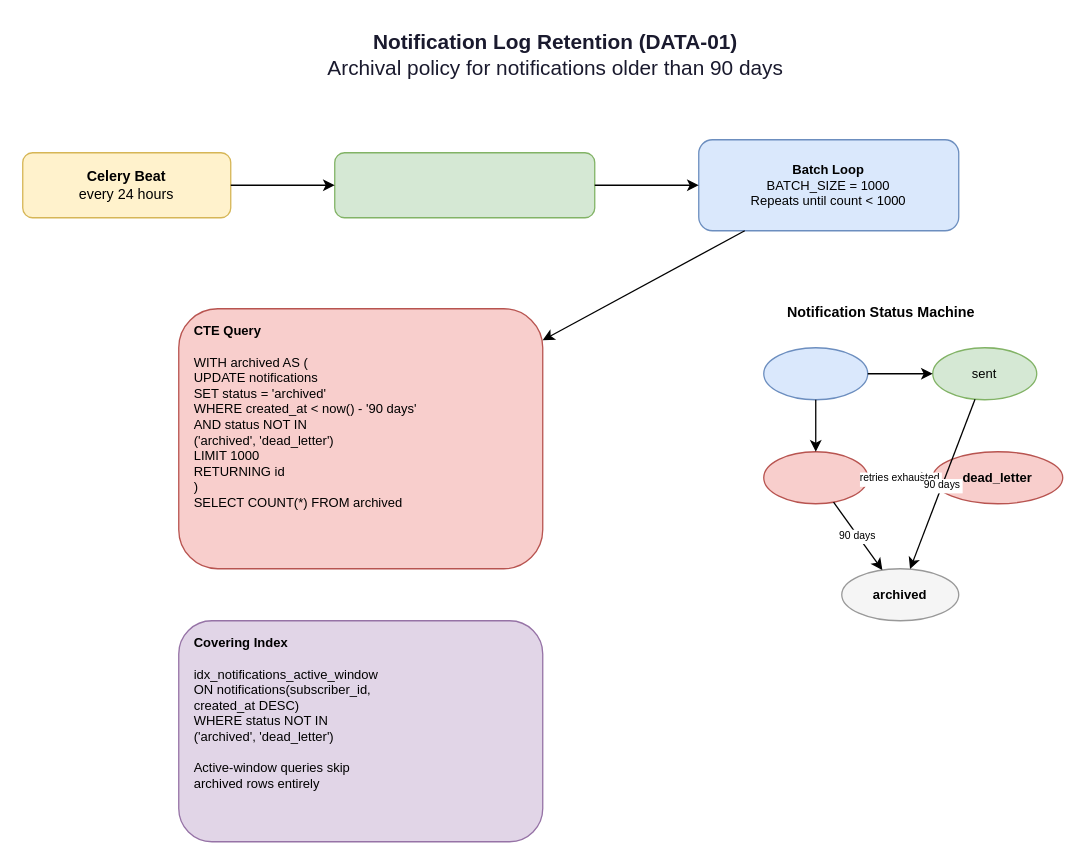
The diagram is 1086 pixels wide and 864 high, and some of its shapes have lost their labels. Each missing label, with the centre of its shape:
"archive_old_notifications tasks/retention.py" belongs at (464,184).
"failed" belongs at (815,477).
"pending" belongs at (815,373).
